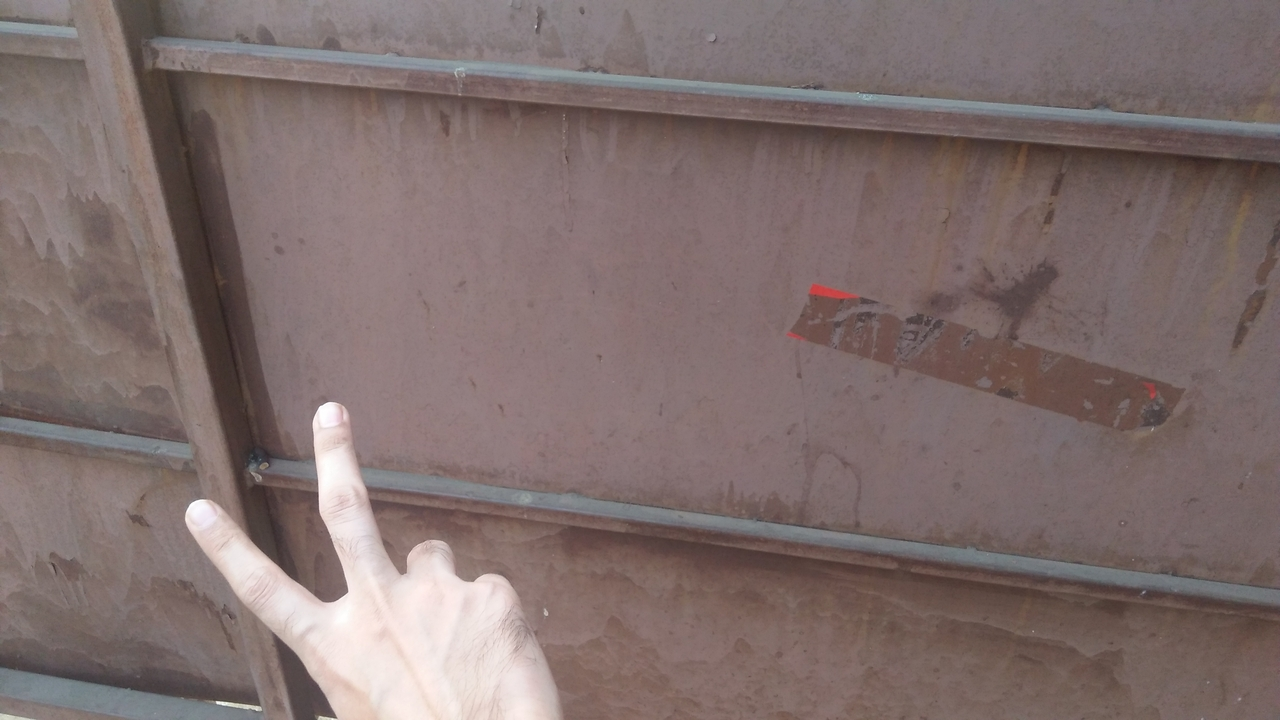fingertip: (298, 396, 356, 454), (172, 496, 228, 554)
